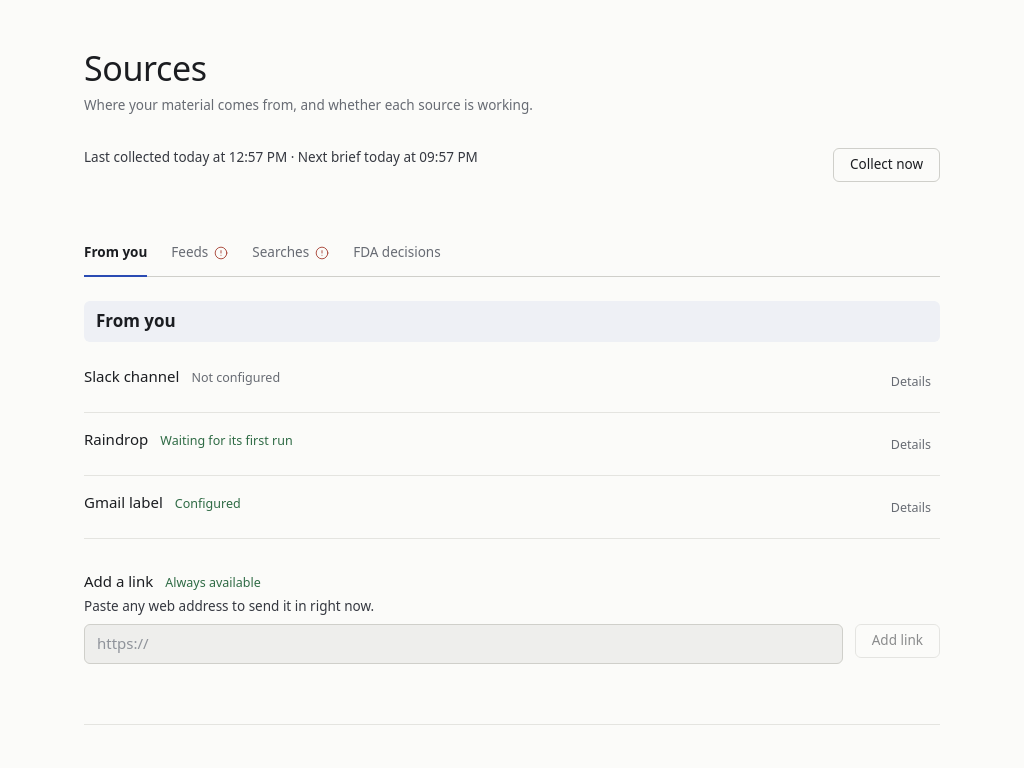
Test case: SourcesPage › shows the collecting line above one strip of tabs, and one group at a time
Expected: the text "Last collected" shows "Next brief", [84, 148, 478, 166]
Expected: the heading "From you" is shown, [96, 309, 176, 334]
What coordinates should you click on to do the following:
click the tab "Searches"
I would click on:
 (291, 254)
Its box is [252, 231, 329, 277].
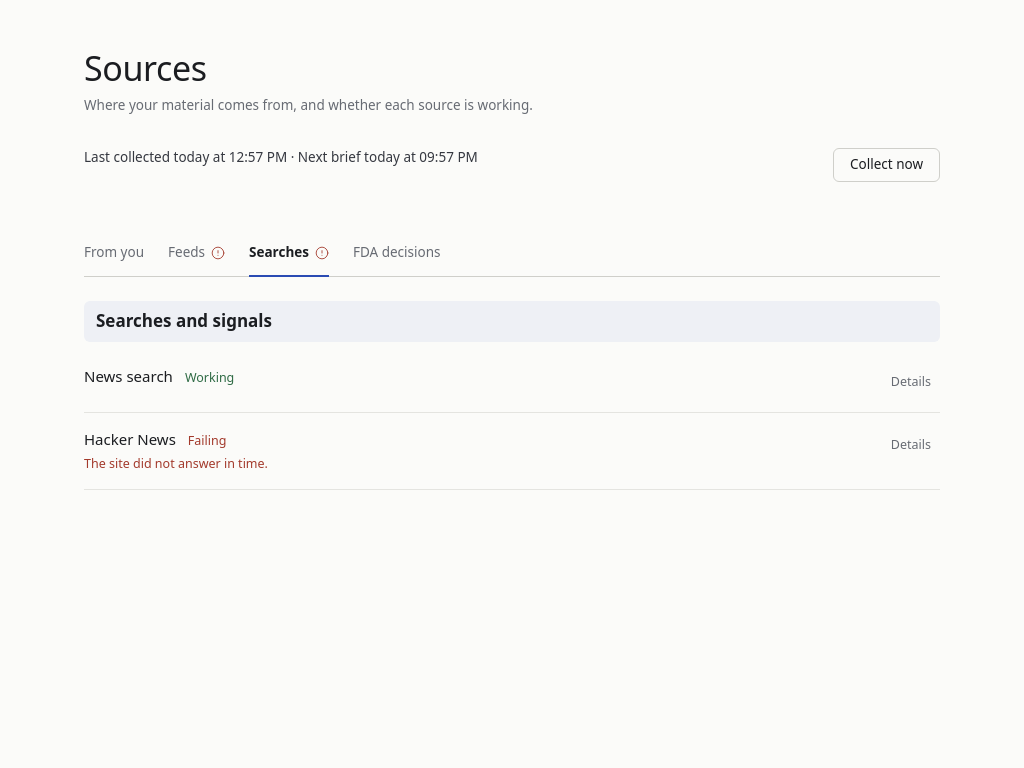
Expected: the heading "Searches and signals" is shown, [96, 309, 272, 334]
What coordinates should you click on to do the following:
click the tab "FDA decisions"
I would click on:
 (397, 254)
Its box is [353, 231, 440, 277].
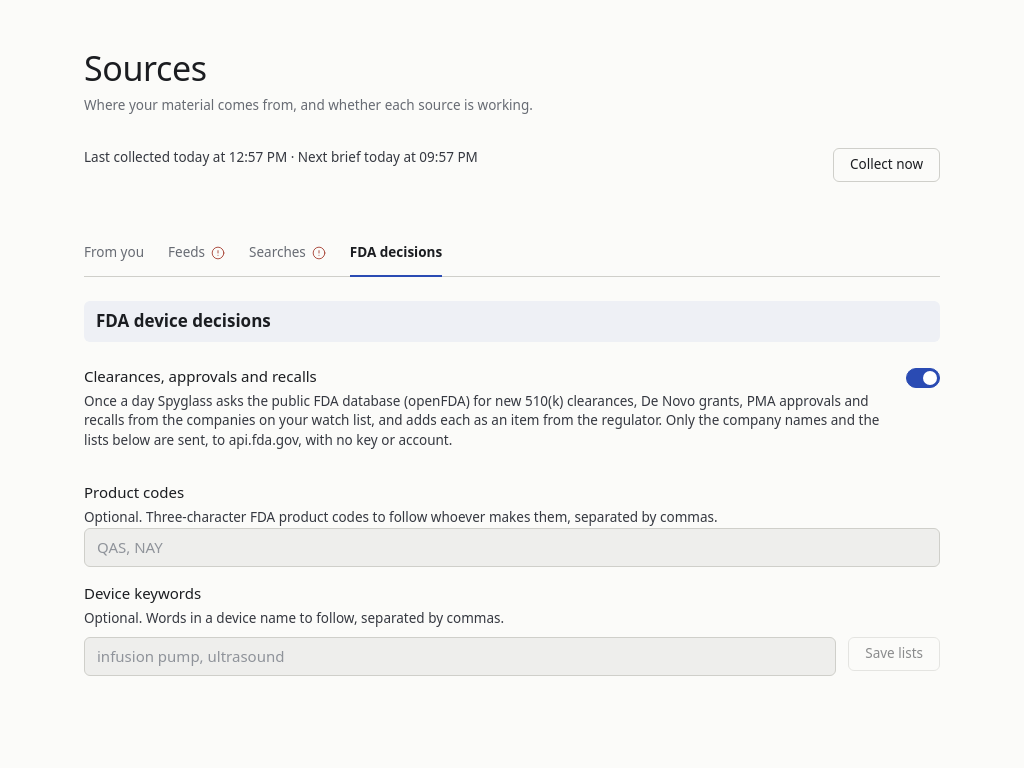
Expected: the heading "FDA device decisions" is shown, [96, 309, 271, 334]
